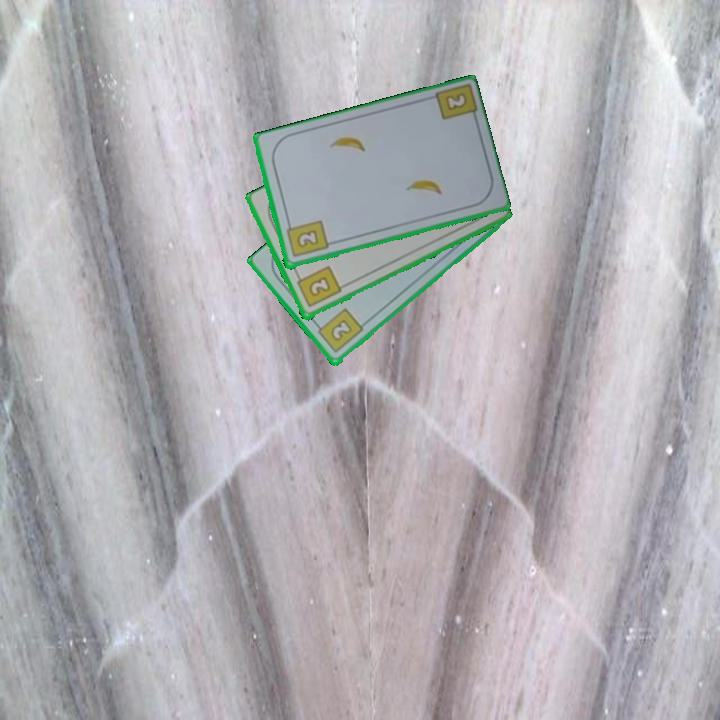2b: (312, 305, 366, 356), (293, 263, 344, 310), (283, 217, 331, 260), (441, 91, 468, 114)
